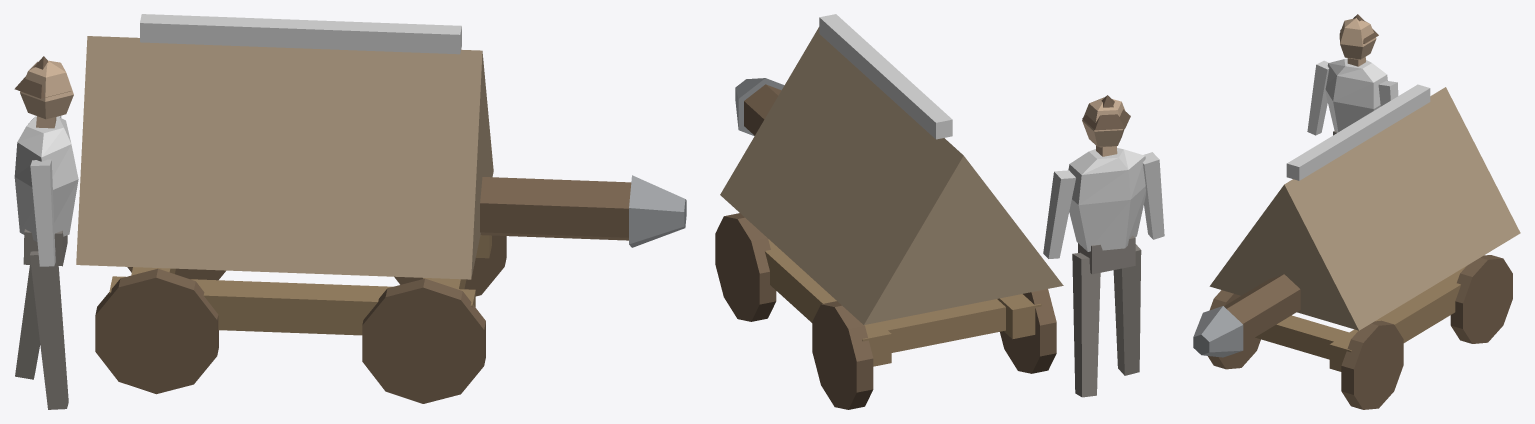
File: battering-ram.glb
3 views of the same model, side by side, from view 1: azimuth 30°, elevation 25°; view 2: azimuth 150°, elevation 25°; view 3: azimuth 270°, elevation 25° (orthographic). The views are drawn at different scales.
Visible parts, largest first — view 1: LOD0; view 2: LOD0; view 3: LOD0.
Boxes of the visible parts, bbox=[...] form: LOD0: bbox=[14, 14, 686, 409]; LOD0: bbox=[715, 14, 1164, 409]; LOD0: bbox=[1193, 14, 1520, 409].
Size of what is drawn, in the model's own units: 1.24 by 0.7252 by 0.8603.
